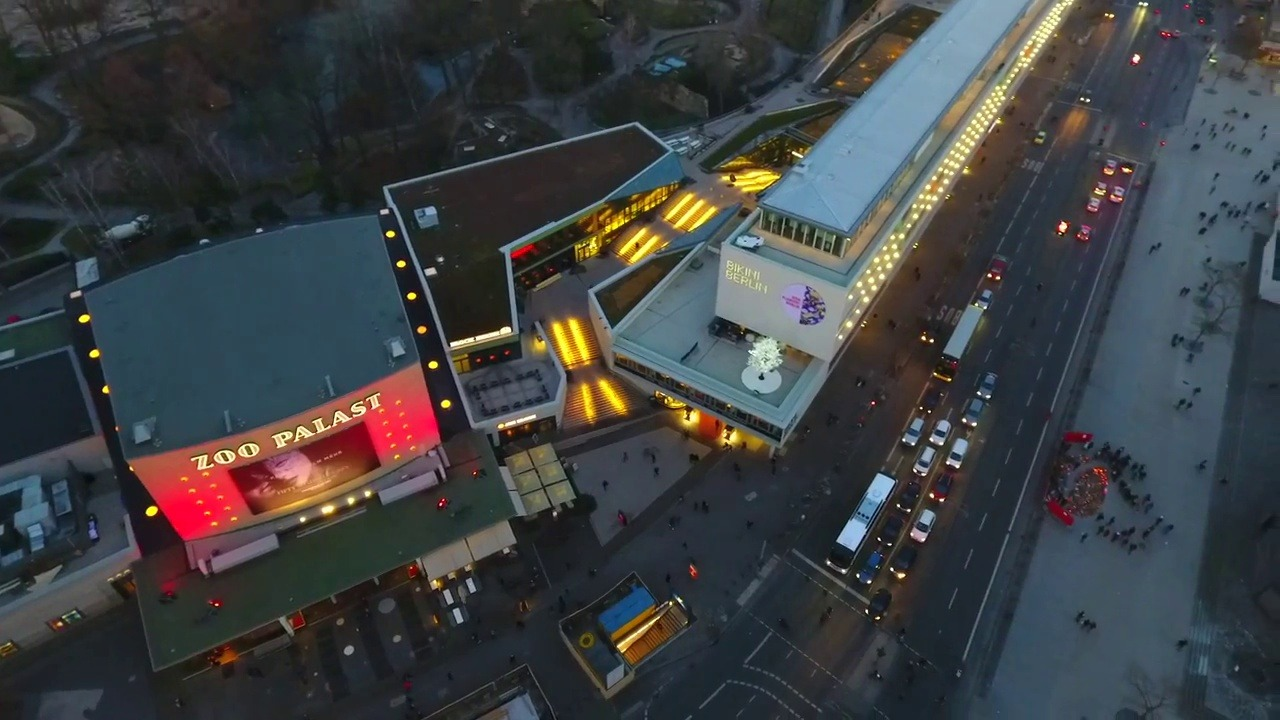bus: (819, 465, 901, 580)
car: (905, 502, 938, 548)
